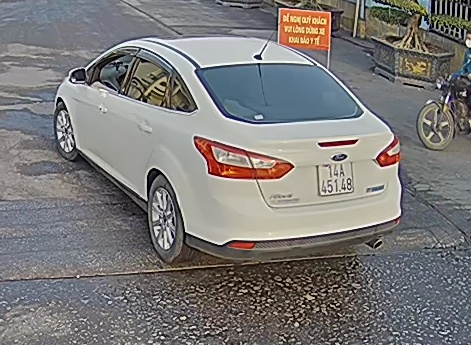vehicle plate: (315, 160, 356, 195)
